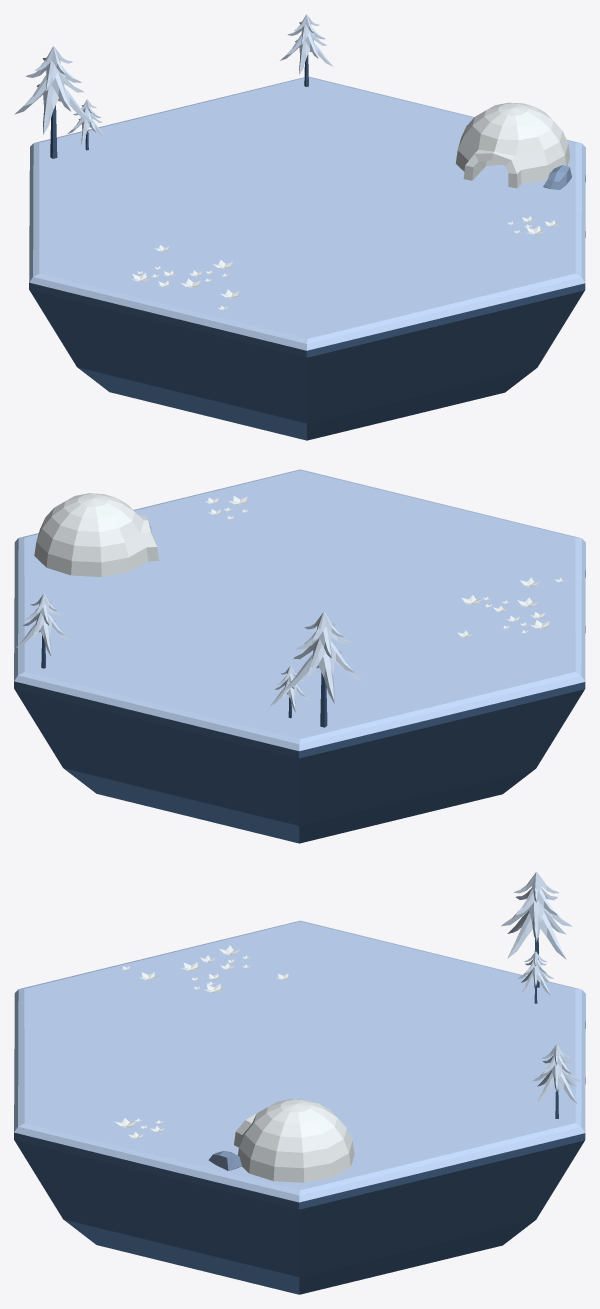
The model's file is Asset_Biome_Snow_01.fbx.
3 renders of one model, top to bottom at view 1: azimuth 30°, elevation 25°; view 2: azimuth 150°, elevation 25°; view 3: azimuth 270°, elevation 25°, orthographic. The views are drawn at different scales.
Parts seen in each view (by area): view 1: Asset_Tile_Snow, PolySurface_Igloo_01, PolySurface_TreeSnow_04, PolySurface_TreeSnow_08, PolySurface_TreeSnow_05; view 2: Asset_Tile_Snow, PolySurface_Igloo_01, PolySurface_TreeSnow_04, PolySurface_TreeSnow_08, PolySurface_TreeSnow_05; view 3: Asset_Tile_Snow, PolySurface_Igloo_01, PolySurface_TreeSnow_04, PolySurface_TreeSnow_08, PolySurface_TreeSnow_05.
Part boxes in pixels (x1,y1,x2,y2): Asset_Tile_Snow: (29,76,585,440); PolySurface_Igloo_01: (455,102,570,188); PolySurface_TreeSnow_04: (14,46,92,158); PolySurface_TreeSnow_08: (280,14,333,86); PolySurface_TreeSnow_05: (67,99,106,150); Asset_Tile_Snow: (14,469,585,843); PolySurface_Igloo_01: (34,493,158,576); PolySurface_TreeSnow_04: (283,611,363,727); PolySurface_TreeSnow_08: (16,594,71,668); PolySurface_TreeSnow_05: (270,665,310,718); Asset_Tile_Snow: (14,920,585,1294); PolySurface_Igloo_01: (234,1099,354,1182); PolySurface_TreeSnow_04: (501,872,571,987); PolySurface_TreeSnow_08: (533,1044,580,1118); PolySurface_TreeSnow_05: (517,951,553,1003).
Bounding box in the file's own units: 436 × 194 × 378.
